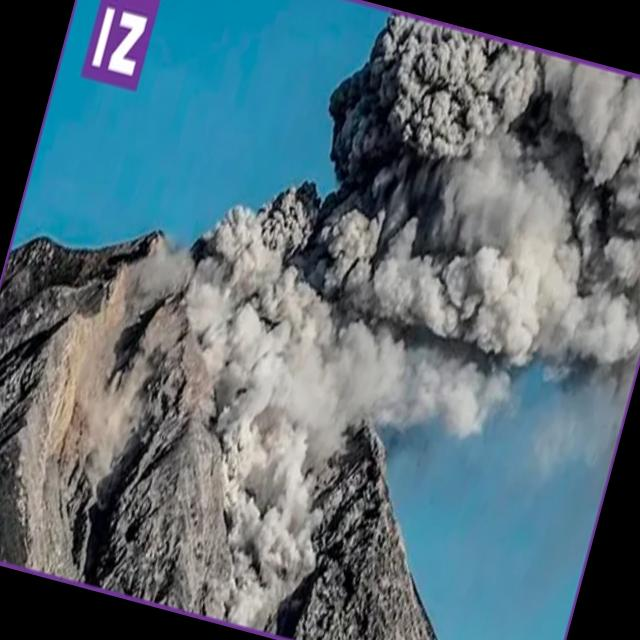Smoke: (151, 0, 640, 490)
